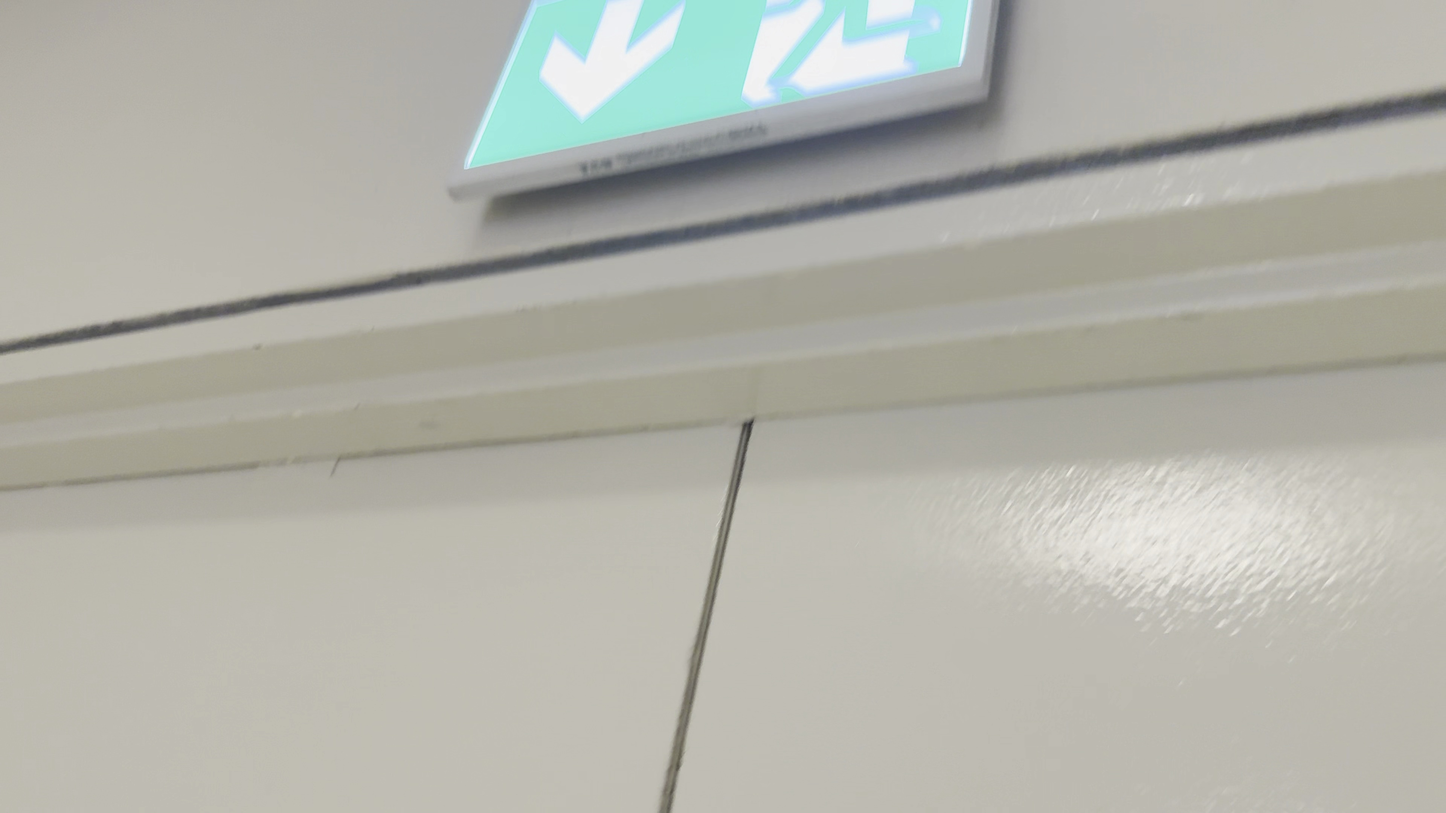emergency_exit: (445, 0, 1002, 201)
